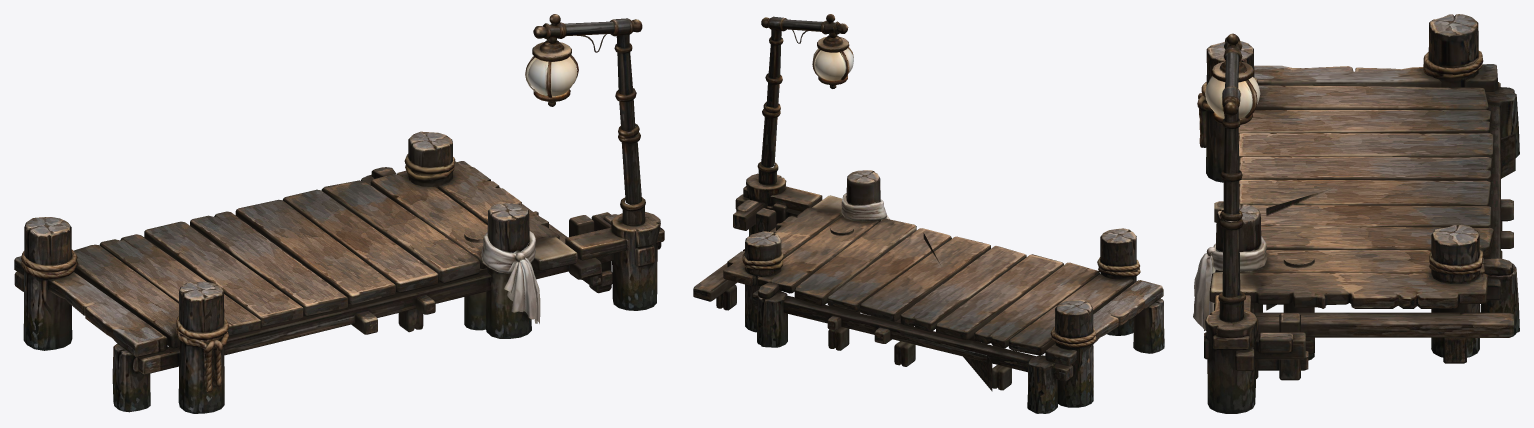
The model's file is act1-a17-6-gentle-dock.glb.
The picture shows the model from 3 angles, left to right: view 1: azimuth 30°, elevation 25°; view 2: azimuth 150°, elevation 25°; view 3: azimuth 270°, elevation 25°; orthographic projection. The views are drawn at different scales.
Parts seen in each view (by area): view 1: act1-a17-6-gentle-dock; view 2: act1-a17-6-gentle-dock; view 3: act1-a17-6-gentle-dock.
Part boxes in pixels (x1=…): act1-a17-6-gentle-dock: x1=14, y1=14, x2=664, y2=413; act1-a17-6-gentle-dock: x1=693, y1=14, x2=1164, y2=413; act1-a17-6-gentle-dock: x1=1193, y1=14, x2=1519, y2=413.
Size of the model in its own units: 6 by 3.44 by 2.96.
1 material, 1 textured.
